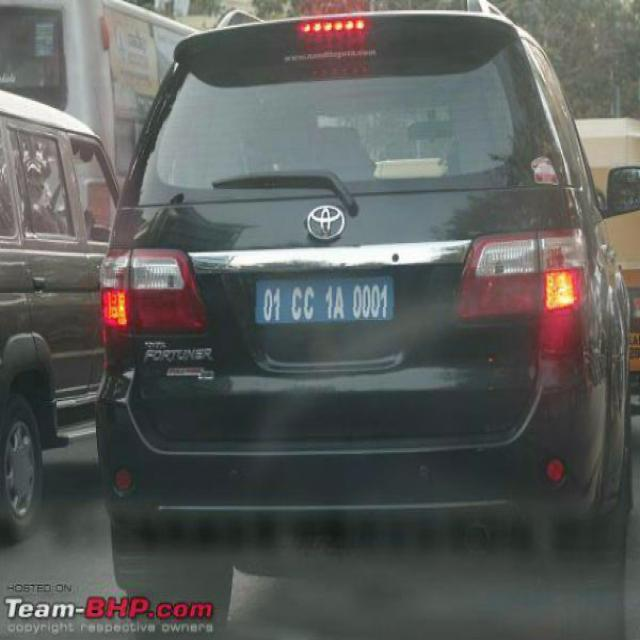licence: (251, 273, 399, 323)
